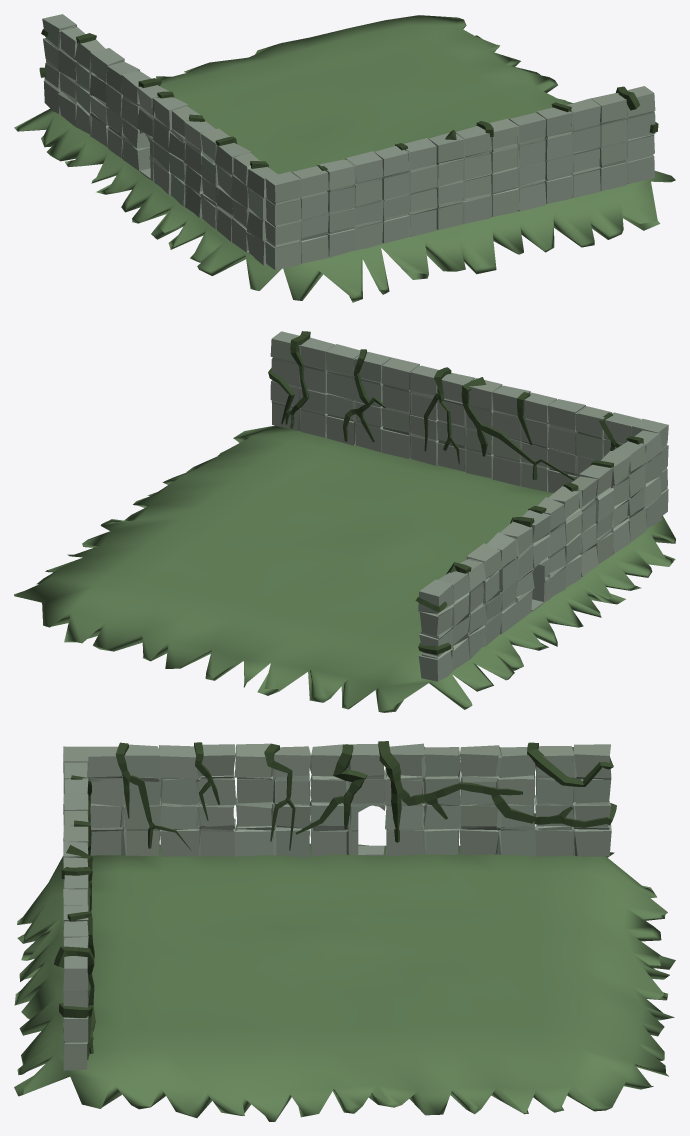
File: Forest1.fbx
3 renders of one model, top to bottom at view 1: azimuth 30°, elevation 25°; view 2: azimuth 150°, elevation 25°; view 3: azimuth 270°, elevation 25°, orthographic. The views are drawn at different scales.
Visible parts, largest first — view 1: Ground, Wall, Wall.002, Vine.001; view 2: Ground, Wall, Wall.002, Vine.001; view 3: Ground, Wall.002, Vine.001, Wall.
Boxes of the visible parts, box(x1,y1,x2,y2) form: Ground: box(14, 15, 675, 302); Wall: box(264, 86, 655, 269); Wall.002: box(42, 14, 277, 265); Vine.001: box(39, 29, 658, 171); Ground: box(14, 425, 675, 712); Wall: box(270, 331, 668, 515); Wall.002: box(418, 430, 662, 681); Vine.001: box(268, 331, 643, 654); Ground: box(14, 843, 675, 1121); Wall.002: box(88, 743, 611, 857); Vine.001: box(54, 741, 616, 1059); Wall: box(63, 746, 88, 1070).
Size of the model in its own units: 3064 by 805 by 3181.
